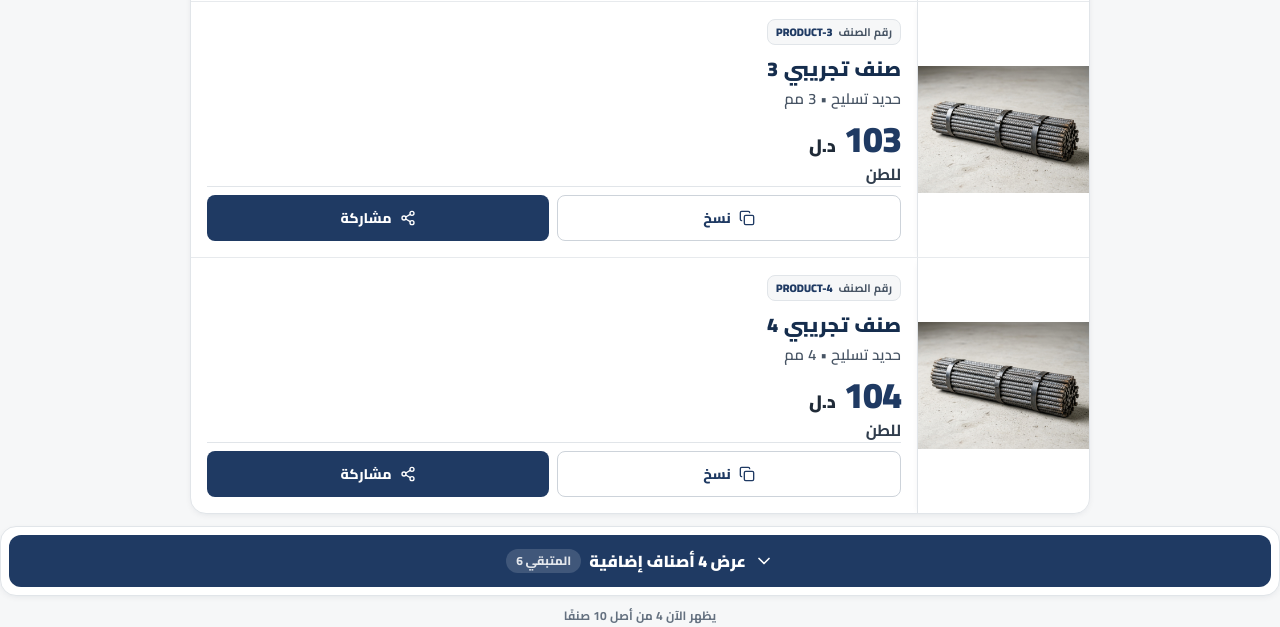
Scenario: Progressive product lists › shows a manageable first batch and reveals more products on demand
The width and height of the screenshot is (1280, 627).
(page scrolled)
Expected: the heading "صنف تجريبي 4" is shown, [767,306,901,343]
Expected: the text "المتبقي 6" is shown, [506,549,581,573]
Click the button "عرض 4 أصناف إضافية المتبقي 6".
click(640, 561)  # box [9,535,1271,587]
(page scrolled)
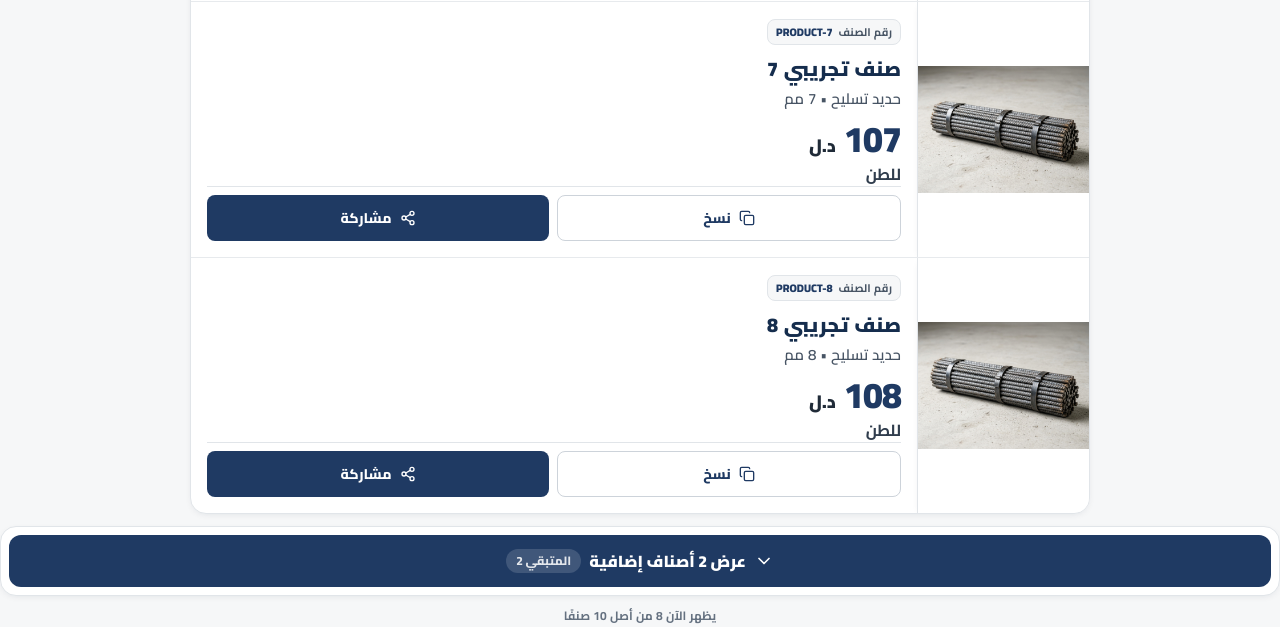
Expected: the heading "صنف تجريبي 8" is shown, [767,306,901,343]
Expected: the text "المتبقي 2" is shown, [506,549,581,573]
